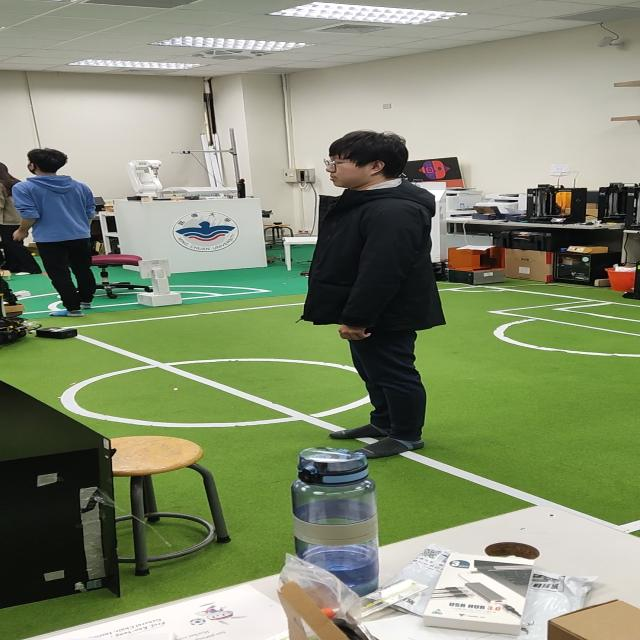person: (281, 118, 466, 439), (4, 137, 122, 316)
